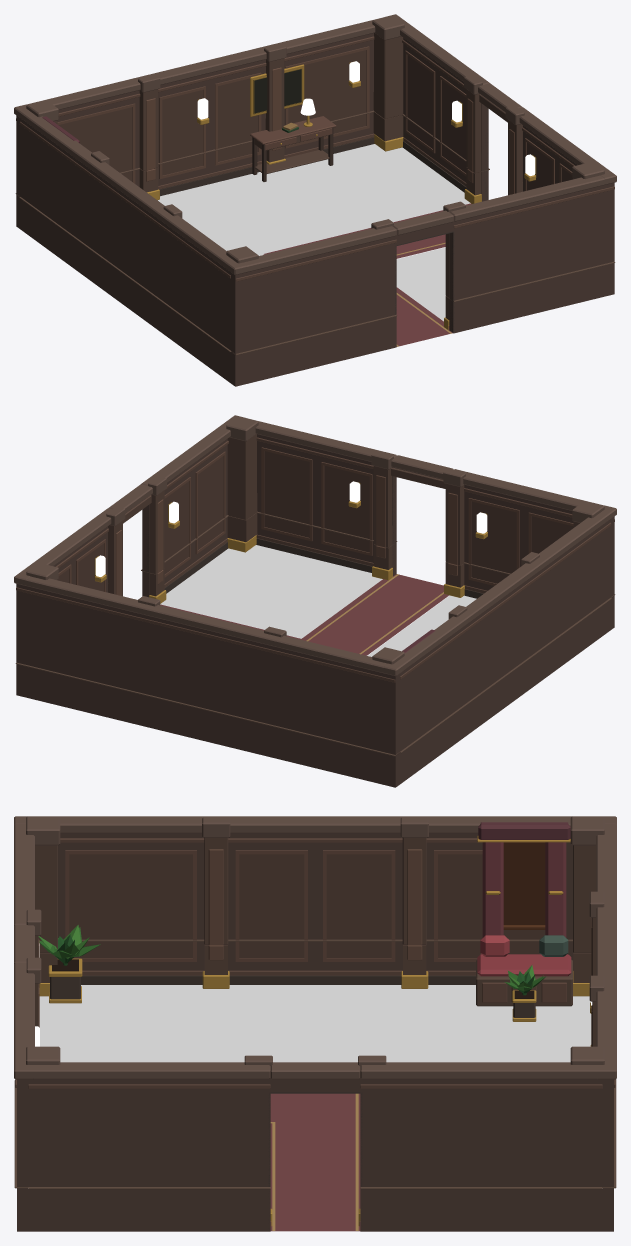
Rendered from cornerCorridor.glb.
3 views of the same model, one above another, from view 1: azimuth 30°, elevation 25°; view 2: azimuth 150°, elevation 25°; view 3: azimuth 270°, elevation 25° (orthographic). The views are drawn at different scales.
Parts seen in each view (by area): view 1: static, W_north_0_up, floor, W_west_0_up, W_south_0_up, W_south_1_up, W_east_0_up, W_east_1_up; view 2: W_north_0_up, static, W_west_0_up, floor, W_south_1_up, W_south_0_up, W_east_1_up, W_east_0_up; view 3: W_west_0_up, static, floor, W_east_0_up, W_east_1_up, W_north_0_up, W_south_0_up, W_south_1_up.
Part boxes in pixels (x1,y1,x2,y2): static: [15, 92, 615, 386]; W_north_0_up: [14, 15, 404, 196]; floor: [158, 144, 471, 346]; W_west_0_up: [14, 104, 246, 350]; W_south_0_up: [226, 210, 453, 353]; W_south_1_up: [443, 162, 616, 300]; W_east_0_up: [385, 14, 522, 173]; W_east_1_up: [505, 105, 616, 195]; W_north_0_up: [14, 563, 404, 754]; static: [15, 493, 615, 787]; W_west_0_up: [384, 505, 616, 751]; floor: [160, 545, 476, 656]; W_south_1_up: [226, 416, 396, 547]; W_south_0_up: [391, 455, 616, 597]; W_east_1_up: [141, 415, 245, 574]; W_east_0_up: [14, 484, 152, 596]; W_west_0_up: [14, 816, 616, 945]; static: [14, 925, 616, 1231]; floor: [39, 985, 591, 1231]; W_east_0_up: [270, 1055, 616, 1186]; W_east_1_up: [14, 1055, 272, 1186]; W_north_0_up: [570, 816, 616, 1186]; W_south_0_up: [14, 816, 60, 987]; W_south_1_up: [14, 957, 60, 1186].
Bounding box in the file's own units: 8.08 × 2.48 × 8.08.
